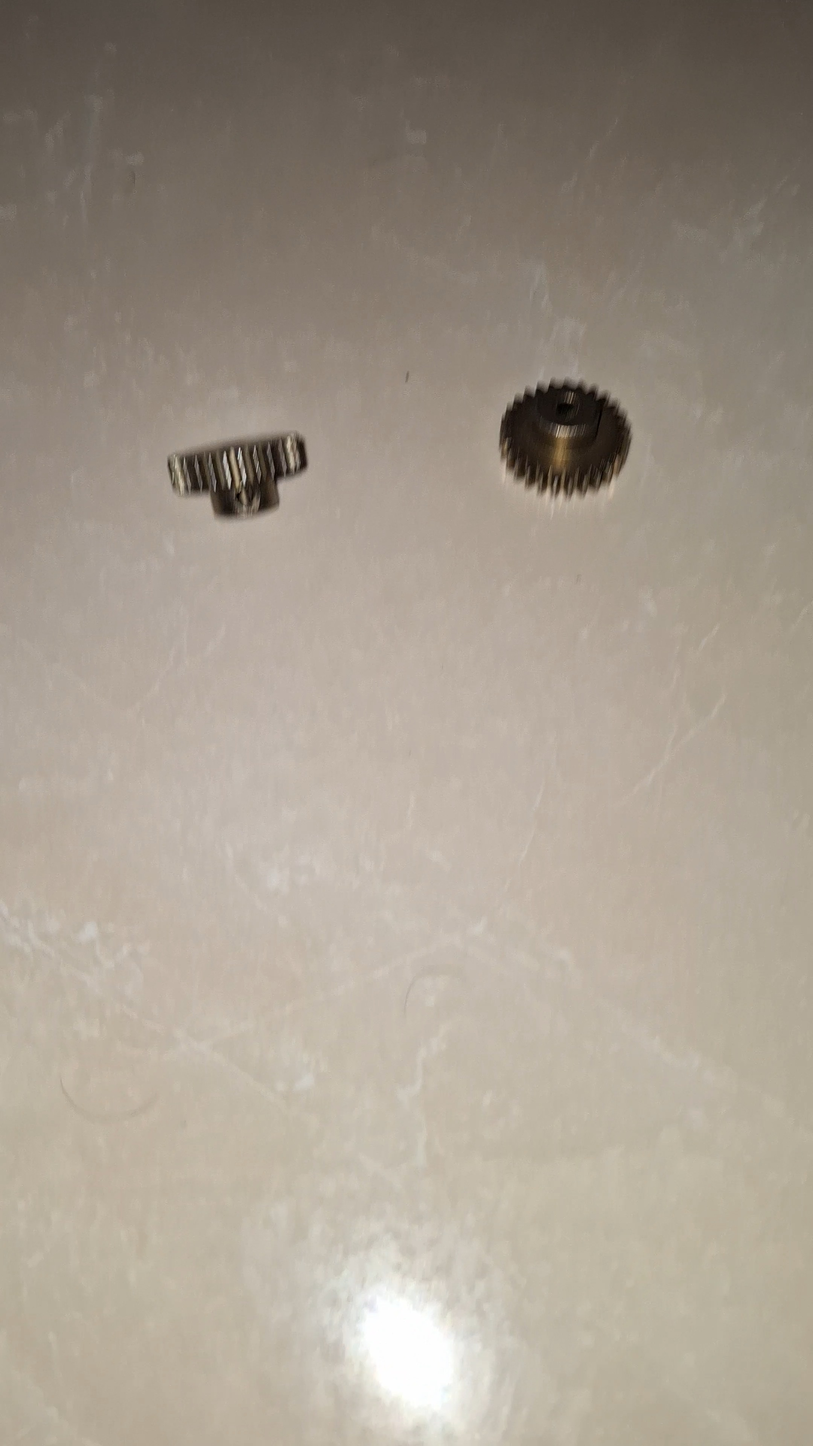spur gear: (500, 381, 630, 495), (168, 433, 306, 516)
